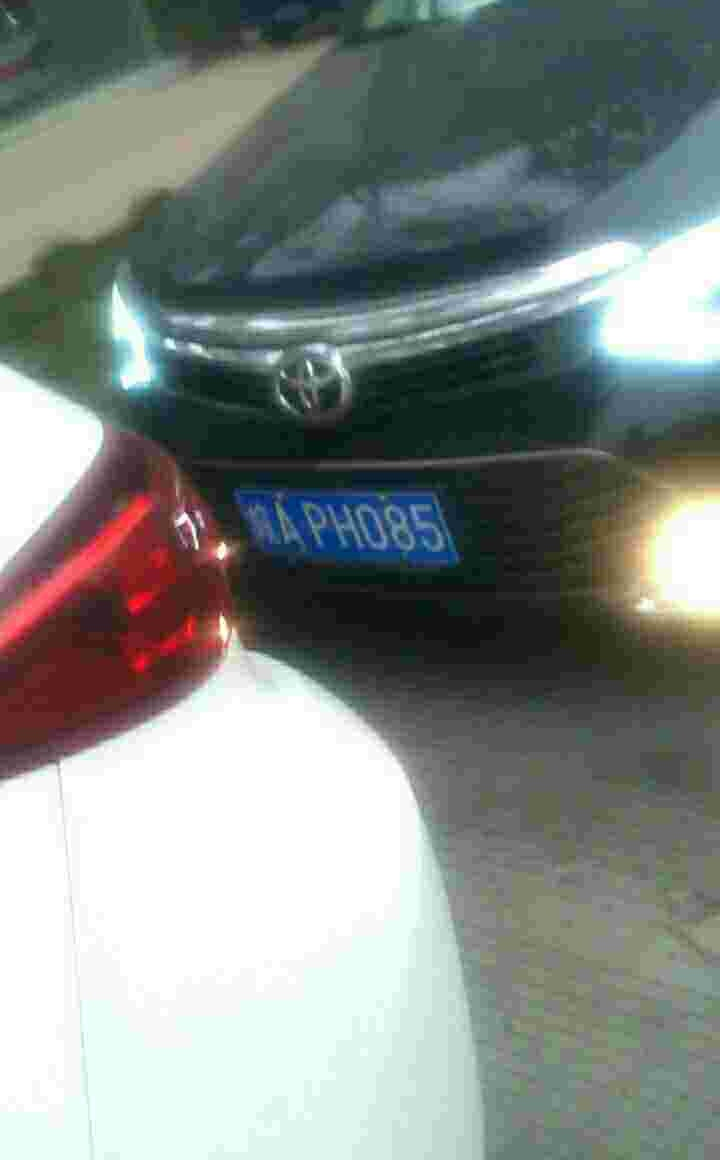license_plate: (234, 482, 466, 564)
